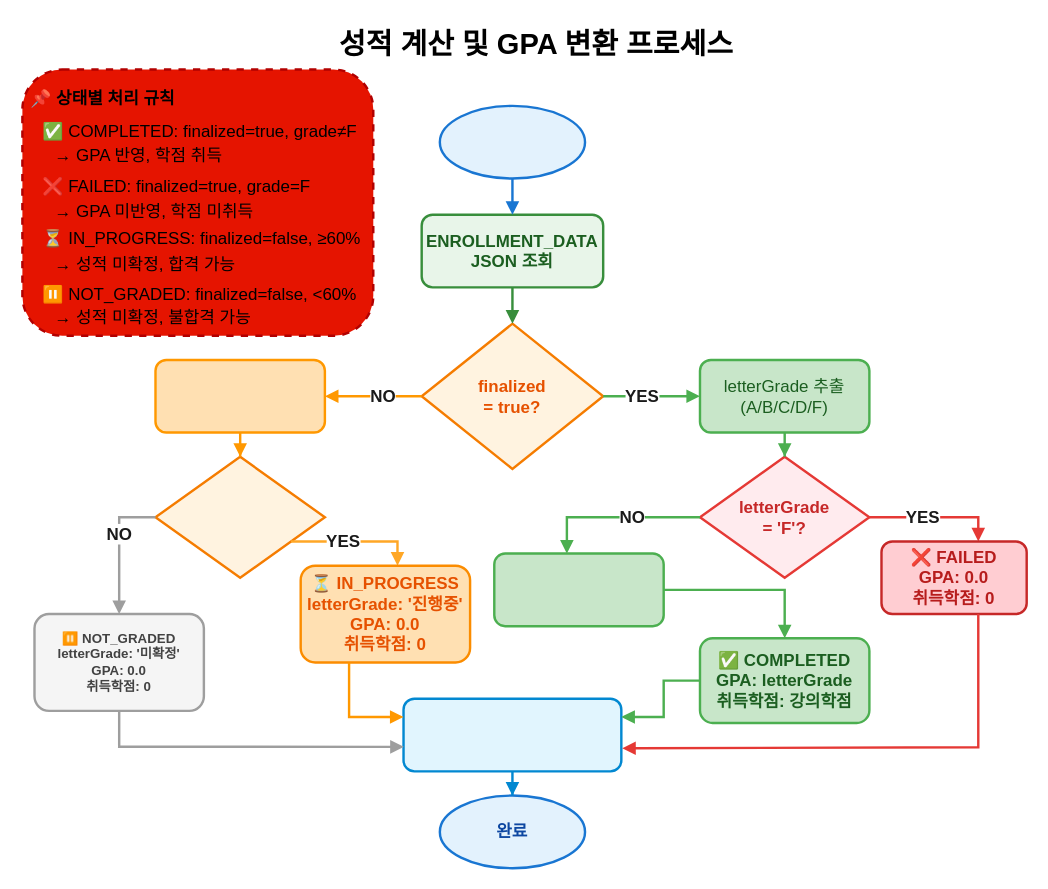
This 1048x889 diagram has some shape labels left out. The shapes that lost their labels are listed below. From the top down, each one's centre as x and y in pixels, then its label:
At point (512, 141): "시작".
At point (239, 395): "percentage 추출 (백분율 점수)".
At point (239, 516): "percentage ≥ 60.0?".
At point (578, 589): "GPA 변환 A→4.0, B→3.0 C→2.0, D→1.0".
At point (512, 734): "학기별/전체 통계 계산에 반영".
